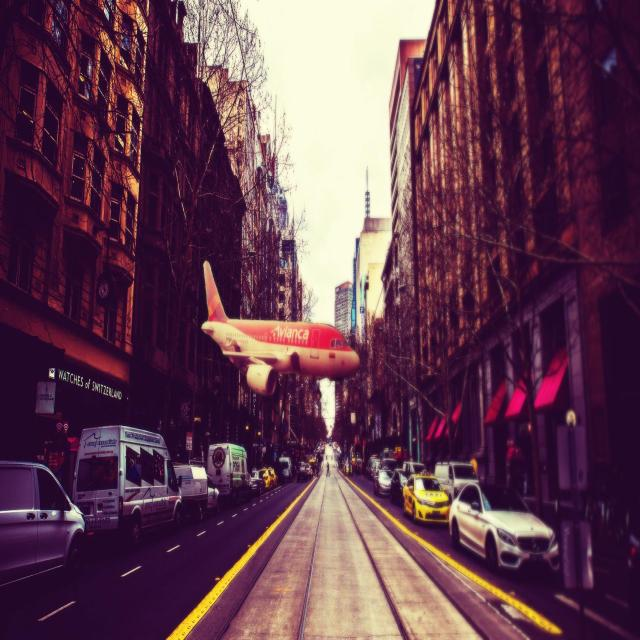airplane: (200, 260, 360, 397)
